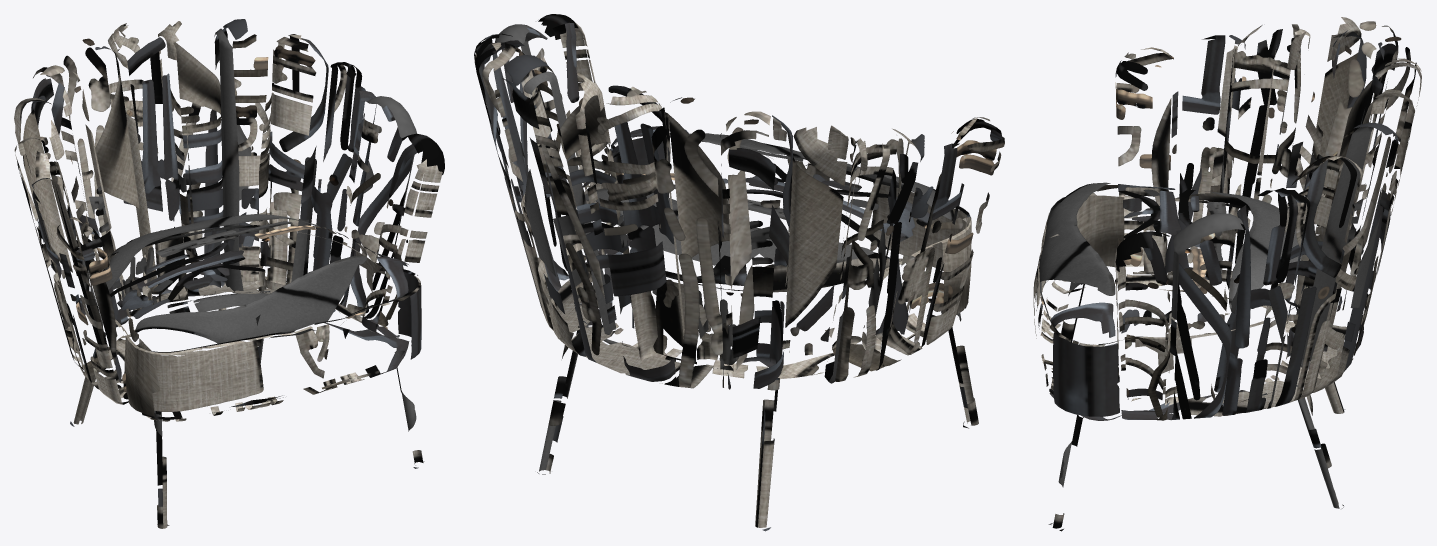
File: raw_model.obj
The picture shows the model from 3 angles, left to right: view 1: azimuth 30°, elevation 25°; view 2: azimuth 150°, elevation 25°; view 3: azimuth 270°, elevation 25°; orthographic projection. The views are drawn at different scales.
Visible parts, largest first — view 1: solid_002, solid_001; view 2: solid_002, solid_001; view 3: solid_002, solid_001.
Part boxes in pixels (box(x1,y1,x2,y2)): solid_002: box(14, 19, 444, 421); solid_001: box(70, 286, 424, 528); solid_002: box(474, 14, 1004, 389); solid_001: box(537, 289, 978, 531); solid_002: box(1033, 17, 1421, 420); solid_001: box(1048, 282, 1345, 531).
Bounding box in the file's own units: 0.6397 × 0.5898 × 0.5232.
